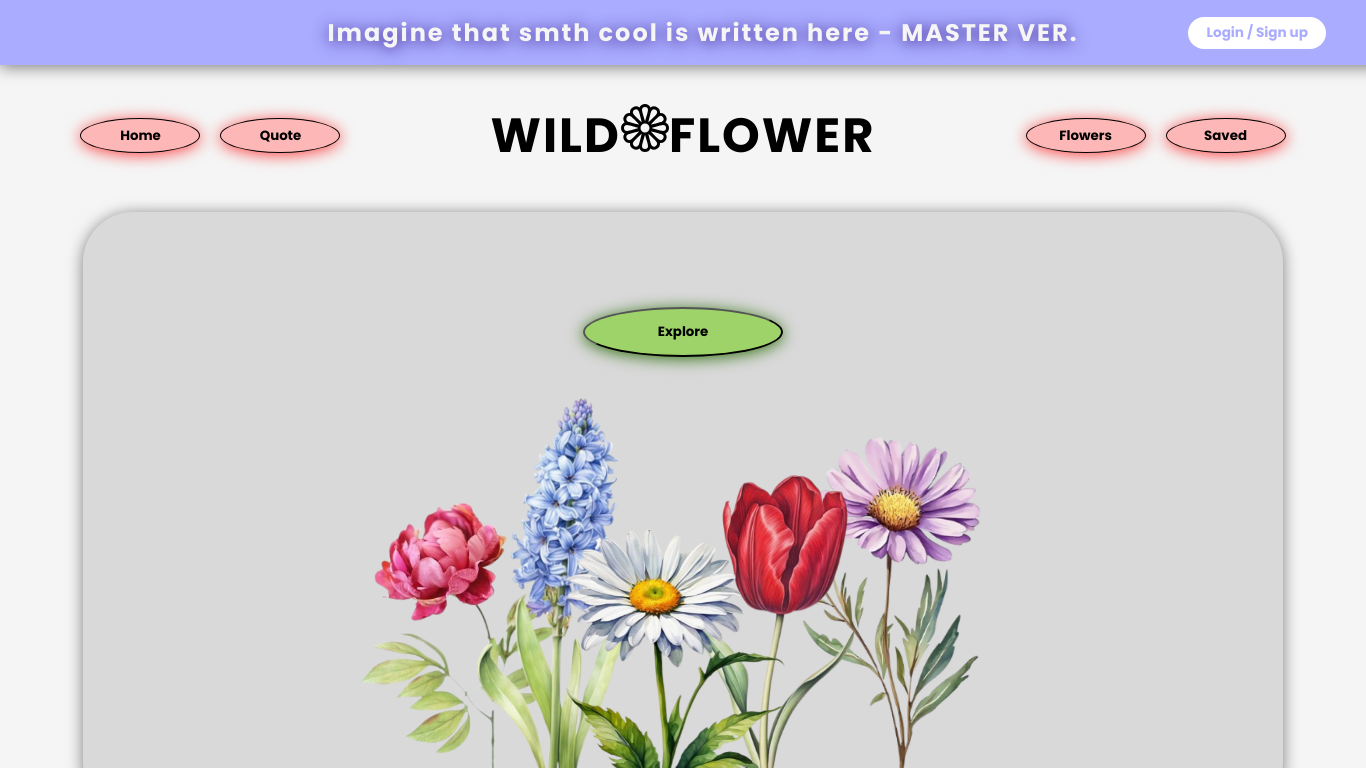
Scenario: Wildflower App › shows auth modal when saving without login
Click the button "Flowers". click: (1086, 136)
box: top-left (1026, 118), bottom-right (1146, 153)
(page scrolled)
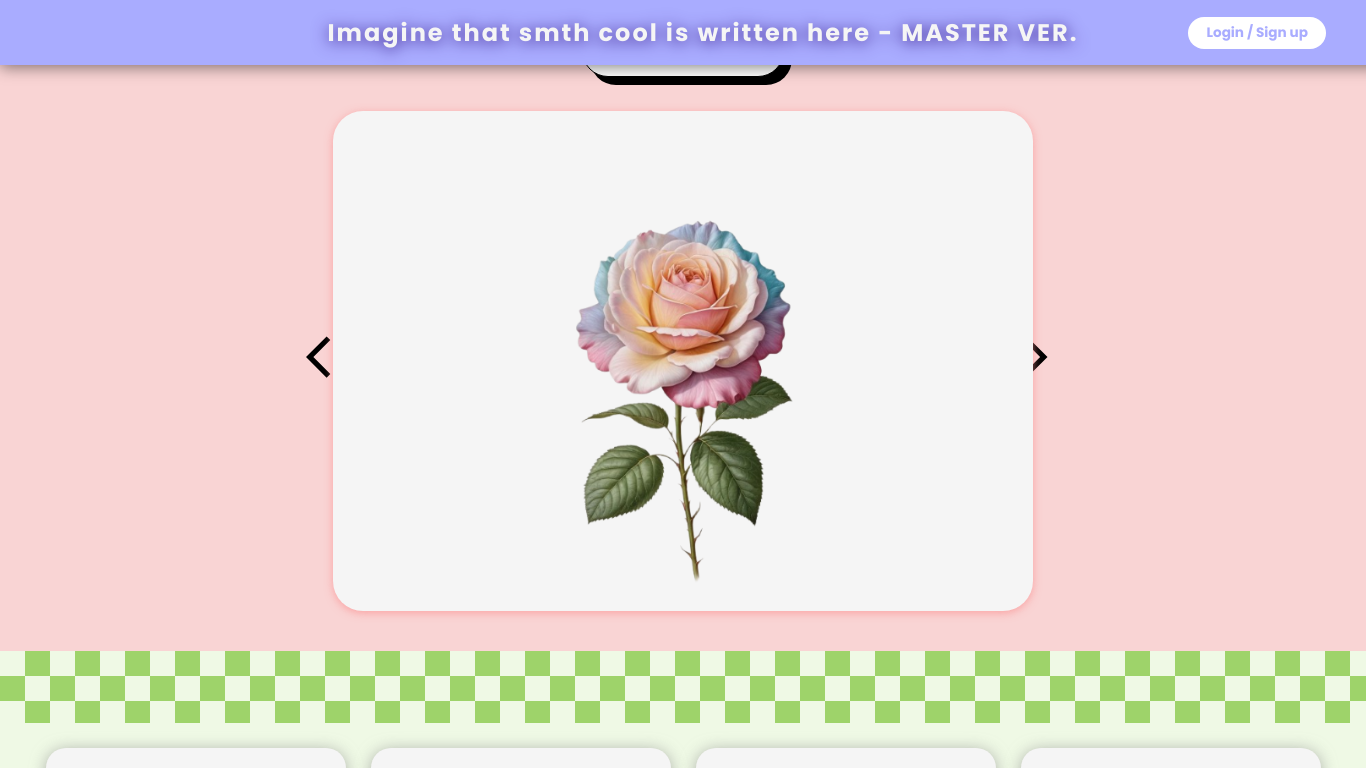
Click the element with class "flower-choosing-box". click: (683, 361)
box: top-left (333, 111), bottom-right (1033, 611)
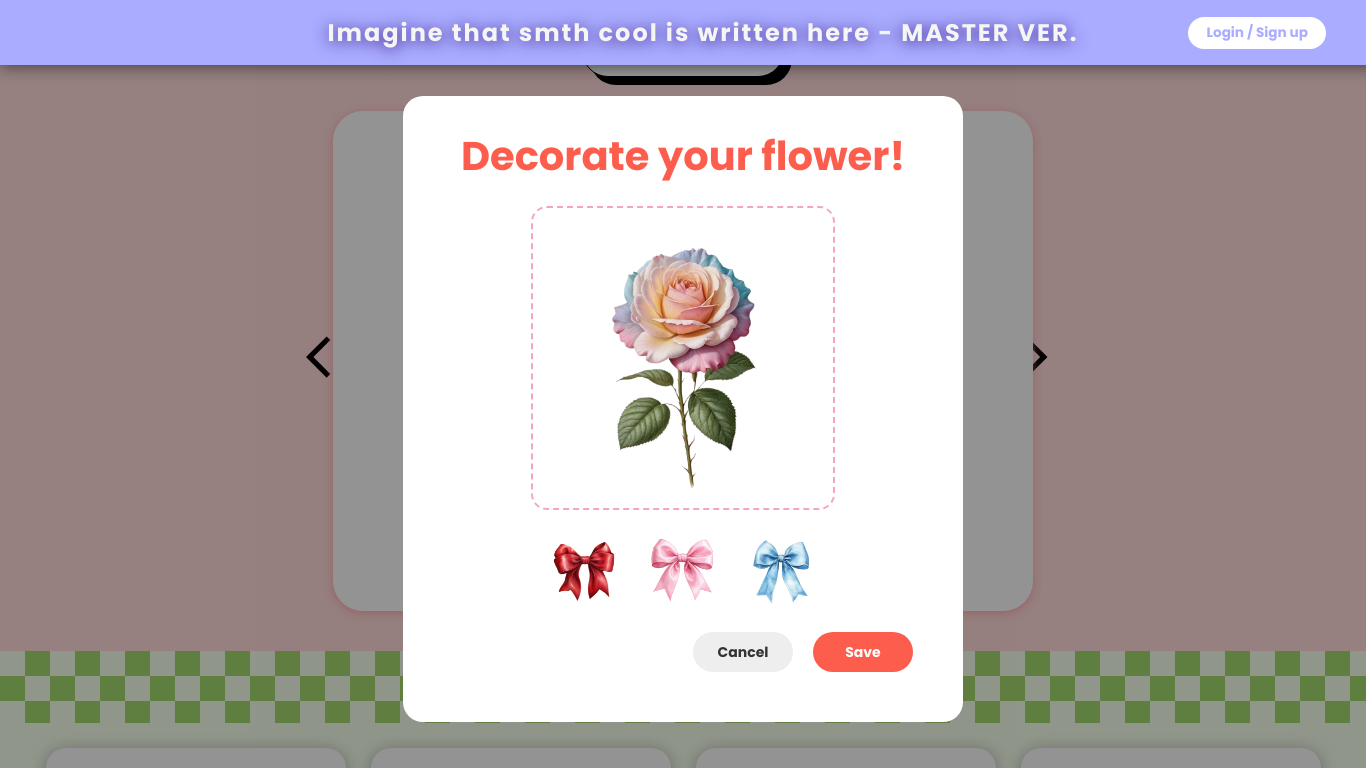
Click the button with class "save-btn". click: (863, 652)
box: top-left (813, 632), bottom-right (913, 672)
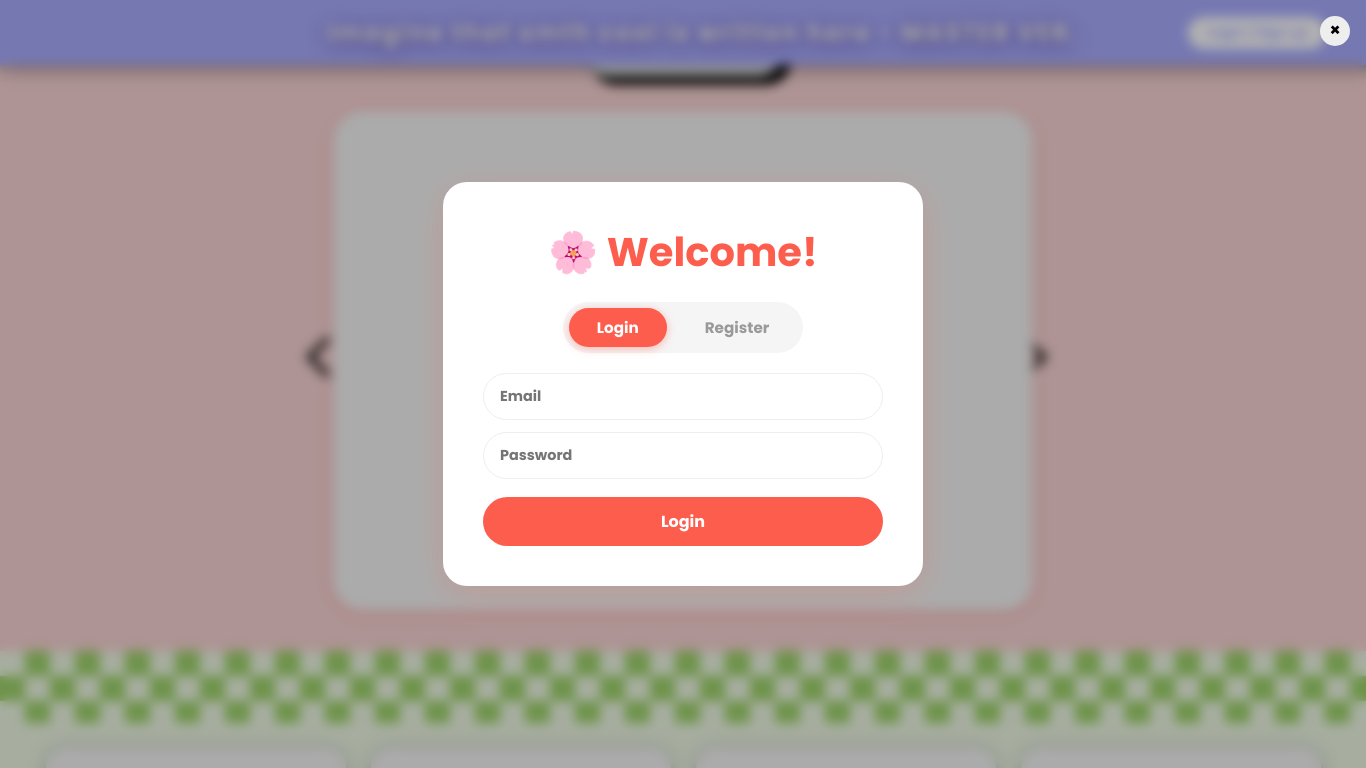
Check: the element with class "auth-modal" is shown, box top-left (443, 182), bottom-right (923, 586)
